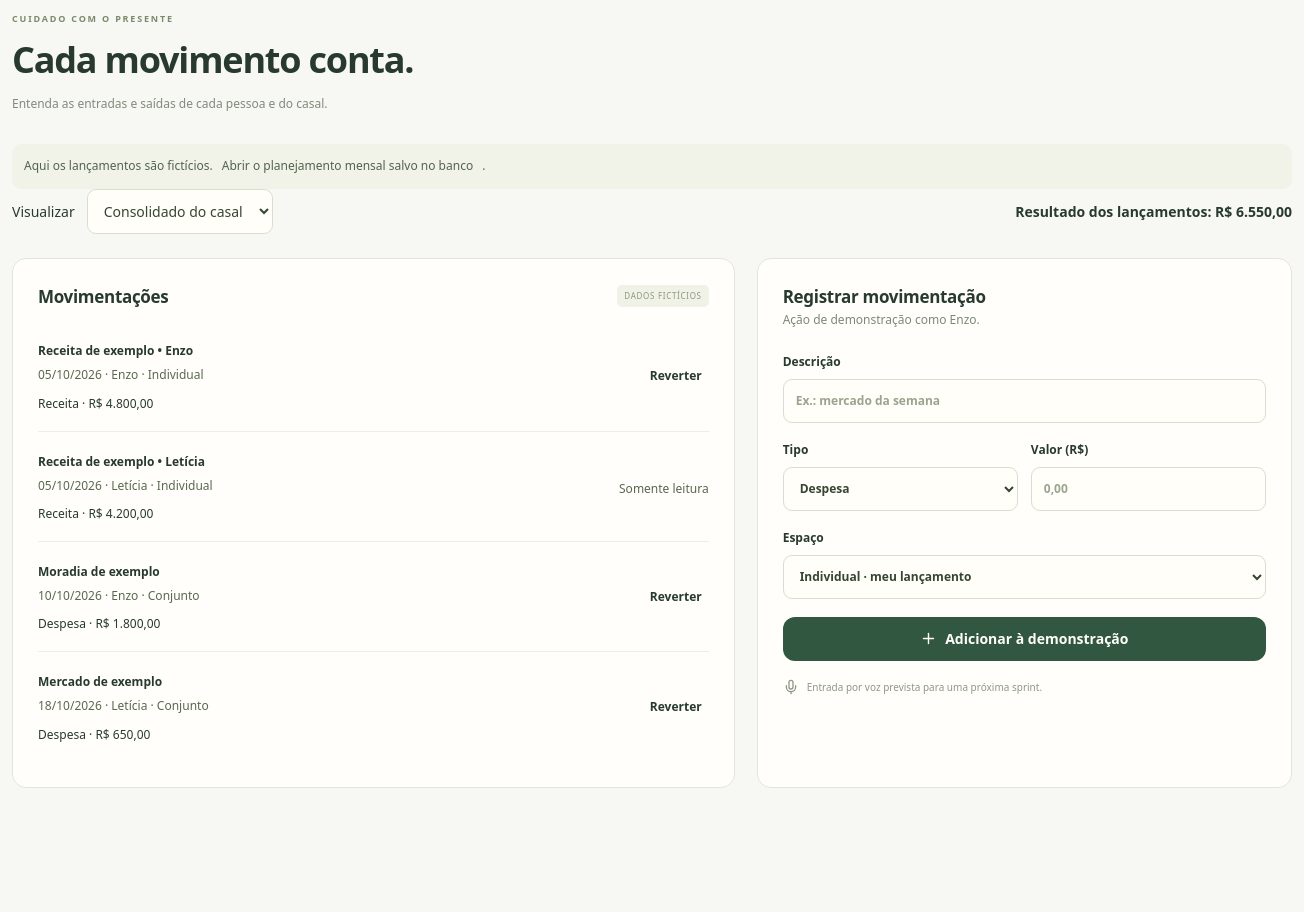
it: fluxos críticos da demonstração › apresenta erro para dinheiro inválido e registra centavos válidos
In the field labelled "Descrição": (1024, 401) top-left (783, 379), bottom-right (1266, 423), type "Café de teste"
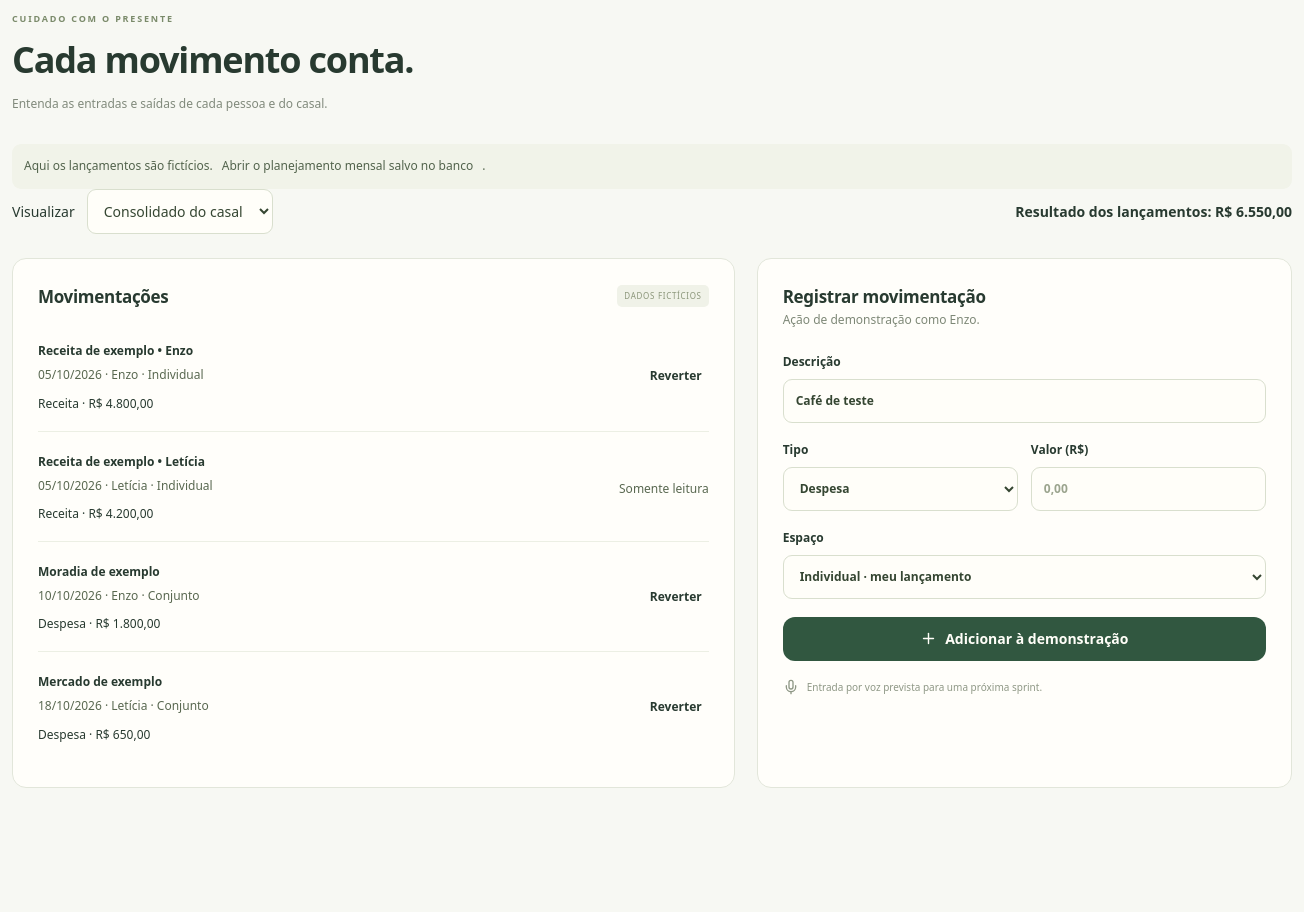
In the field labelled "Valor (R$)": (1148, 489) top-left (1031, 467), bottom-right (1266, 511), type "1,234"
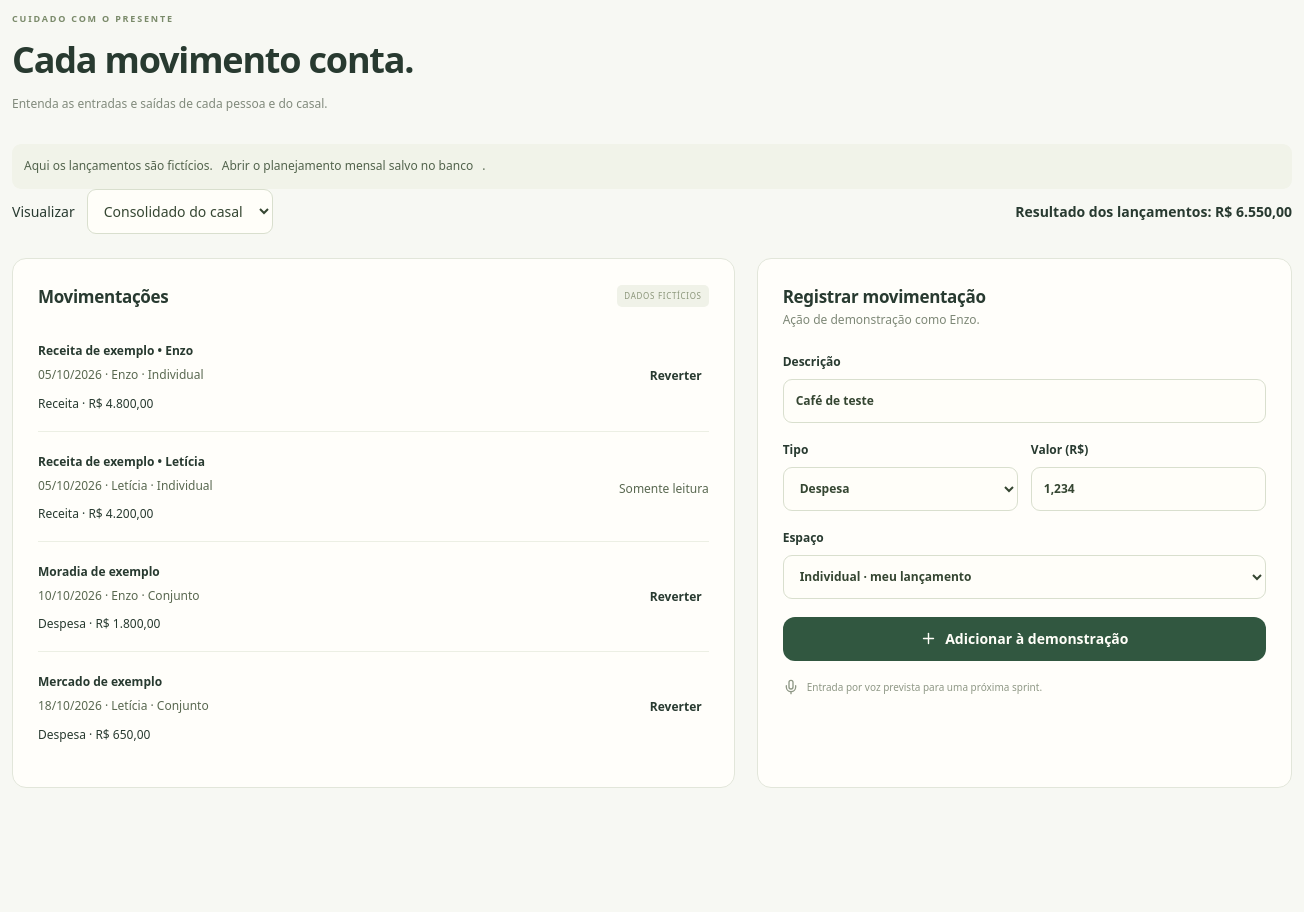
Click the button "Adicionar à demonstração": (1024, 639) top-left (783, 617), bottom-right (1266, 661)
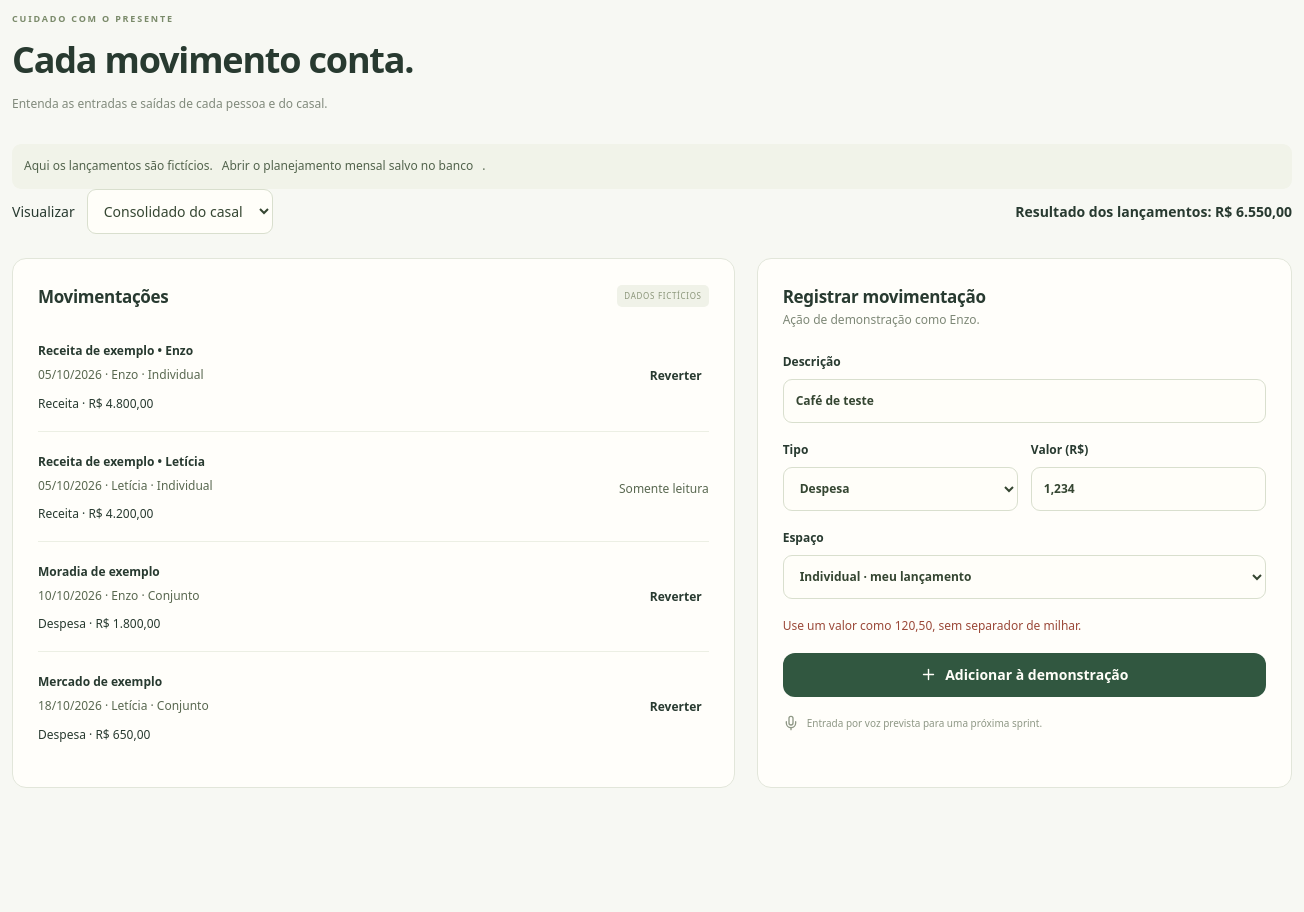
Expected: the message shows "Use um valor", top-left (783, 617), bottom-right (1081, 634)
Replace the text in the field labelled "Valor (R$)" with "12,50": (1148, 489) top-left (1031, 467), bottom-right (1266, 511)
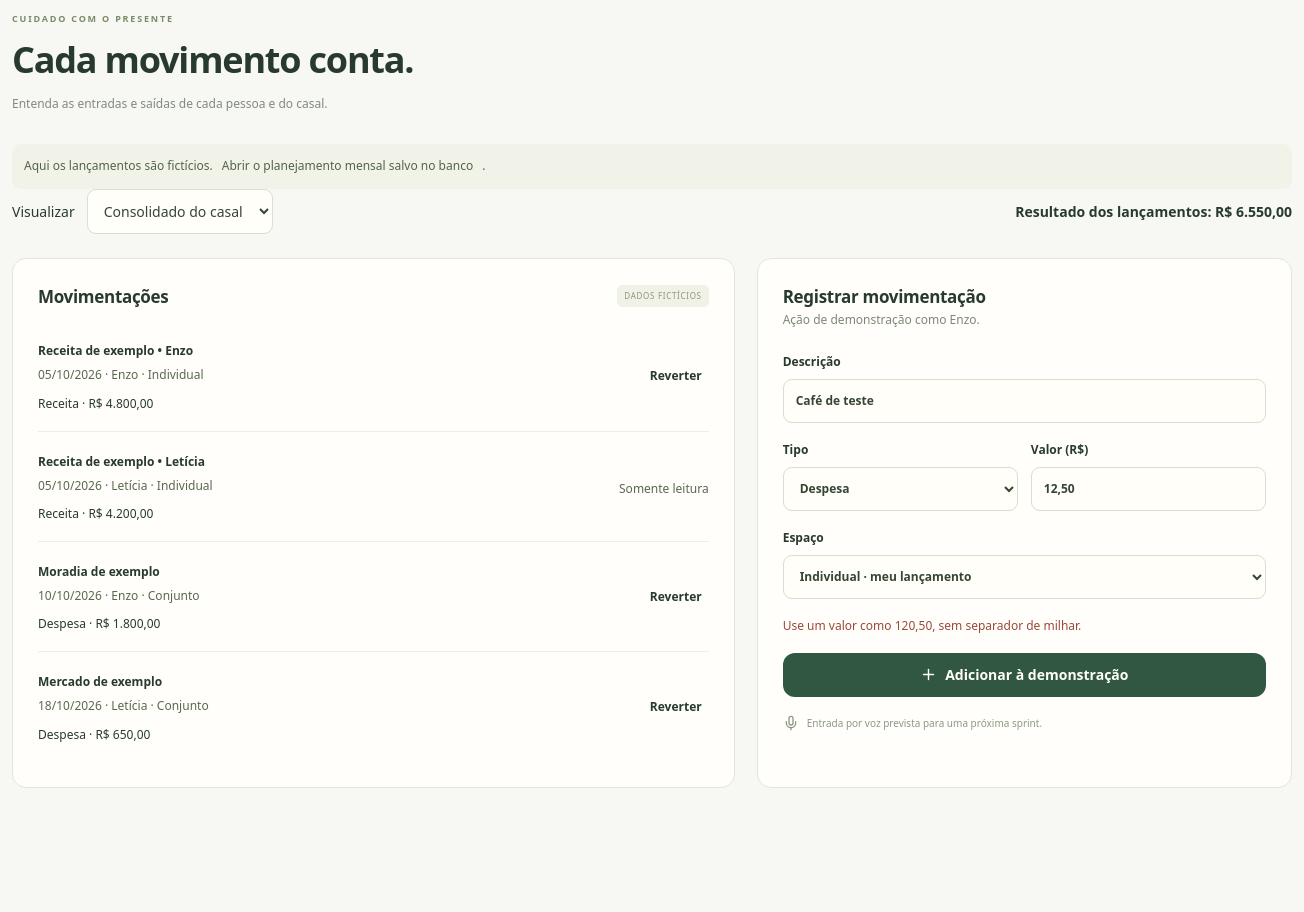
Click the button "Adicionar à demonstração": (1024, 675) top-left (783, 653), bottom-right (1266, 697)
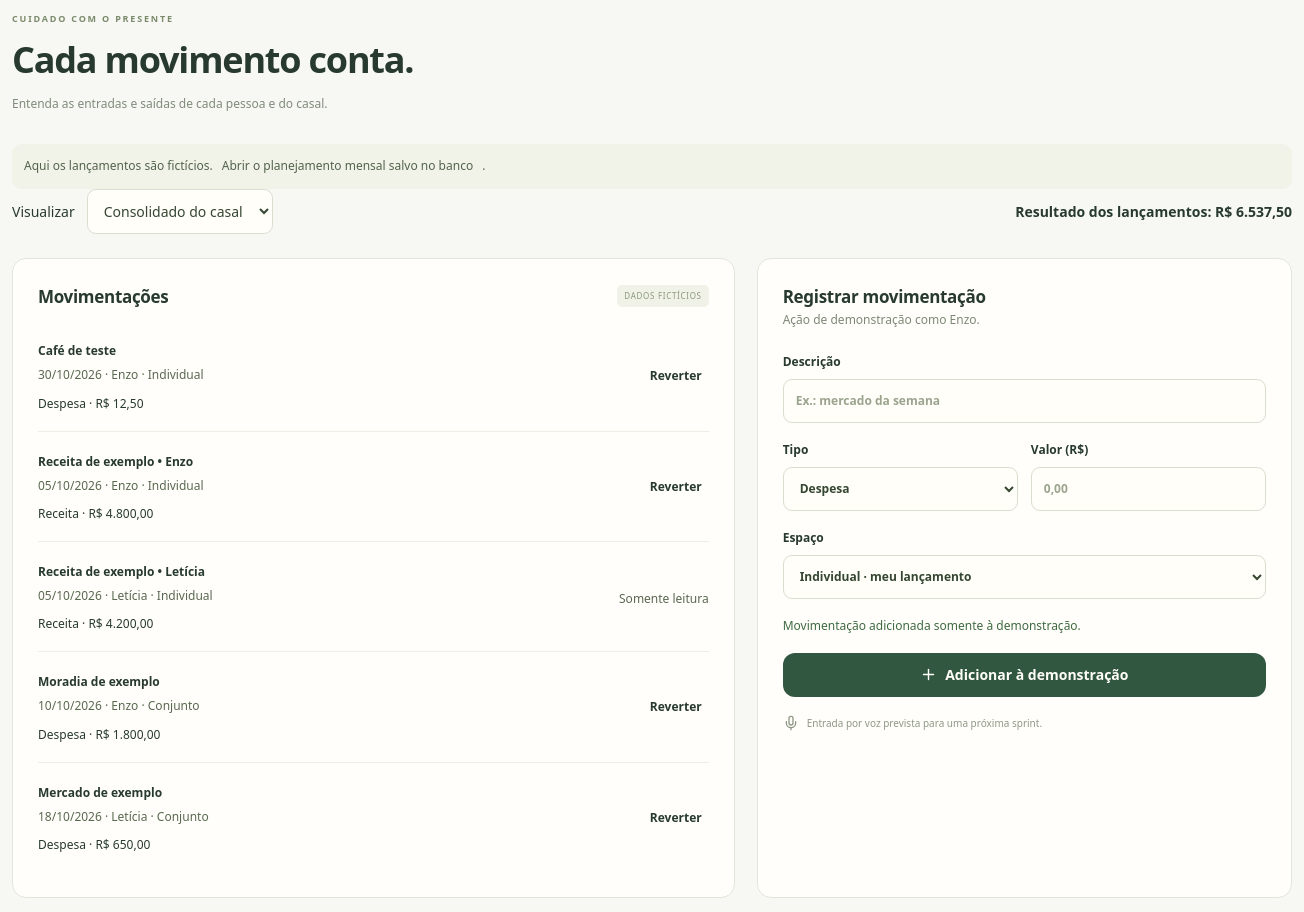
Expected: the text "Café de teste" is shown, top-left (38, 342), bottom-right (116, 359)
Expected: the message shows "somente à demonstração", top-left (783, 617), bottom-right (1081, 634)
Click the button with aria-label "Reverter Café de teste": (676, 376) top-left (643, 354), bottom-right (709, 398)
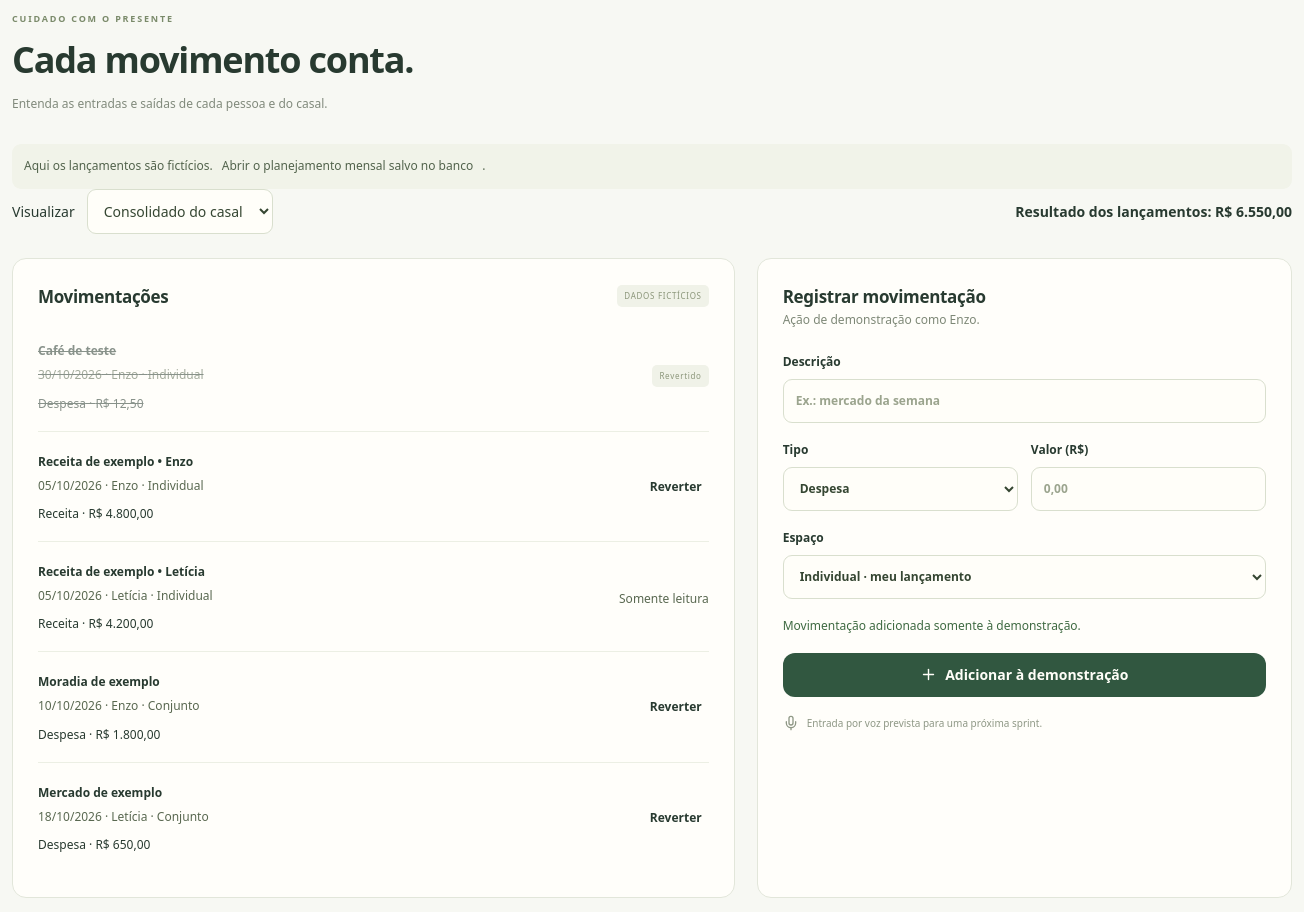
Expected: the text "Revertido" is shown, top-left (652, 365), bottom-right (709, 387)
